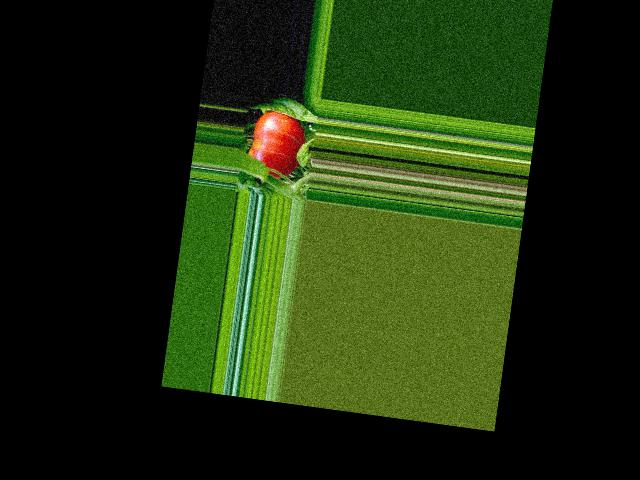tomato: (245, 108, 308, 181)
